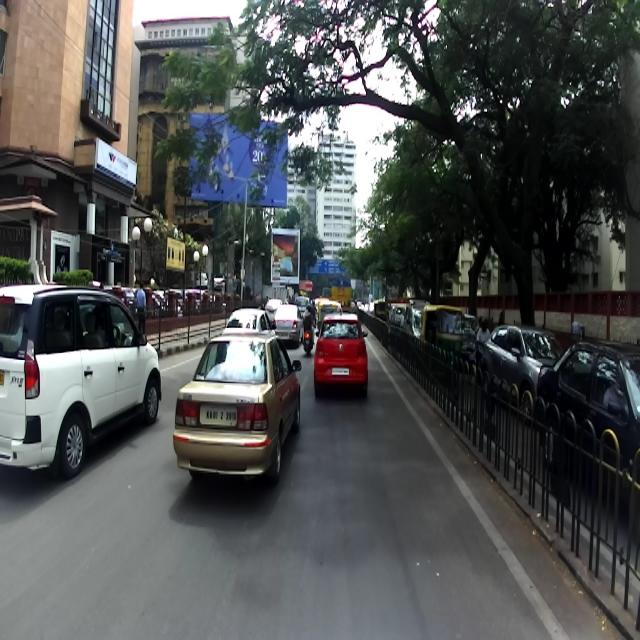Car: (536, 342, 639, 476)
Car_Mahindra: (0, 281, 162, 479)
Car_Maruti-Suzuki: (172, 330, 302, 488), (480, 324, 564, 411)
Car_Volkswagen: (312, 304, 368, 402)
